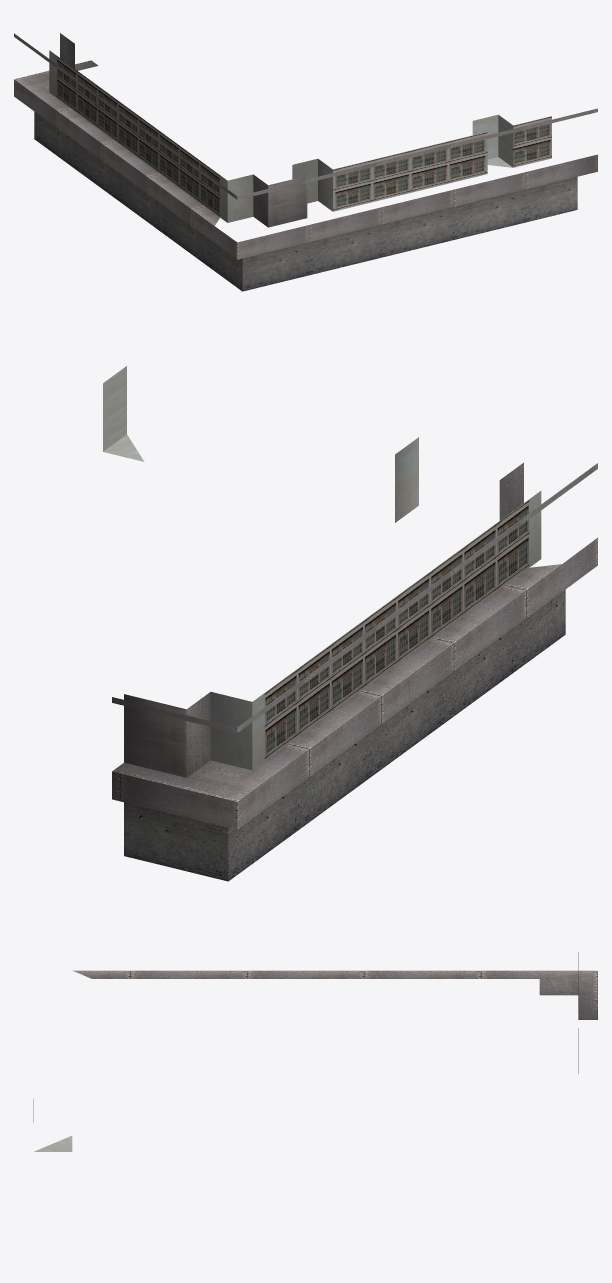
The model's file is M10_Z01_19_Tower.glb.
3 renders of one model, top to bottom at view 1: azimuth 30°, elevation 25°; view 2: azimuth 150°, elevation 25°; view 3: azimuth 270°, elevation 25°, orthographic. The views are drawn at different scales.
Parts seen in each view (by area): view 1: M10_Z01_19_TOWER; view 2: M10_Z01_19_TOWER; view 3: M10_Z01_19_TOWER.
Part boxes in pixels (box(x1,y1,x2,y2)): M10_Z01_19_TOWER: box(14, 33, 597, 291); M10_Z01_19_TOWER: box(103, 366, 597, 881); M10_Z01_19_TOWER: box(33, 952, 597, 1151).
Size of the model in its own units: 28 by 7.69 by 29.98.
Materials: 4 (4 with a texture image).
